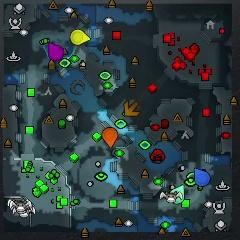p1: (194, 168, 210, 186)
p2: (170, 185, 185, 204)
p3: (48, 43, 64, 61)
p4: (70, 30, 90, 45)
p5: (102, 127, 118, 148)
x5: (124, 101, 140, 116)
